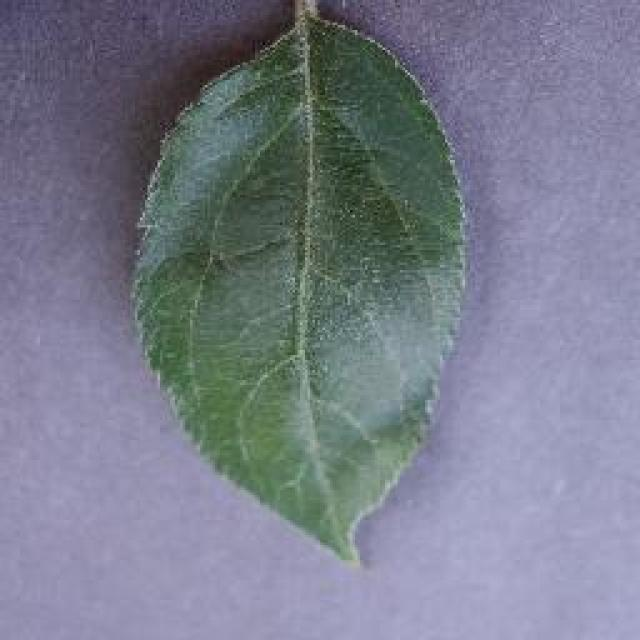apple healthy: (125, 0, 470, 565)
